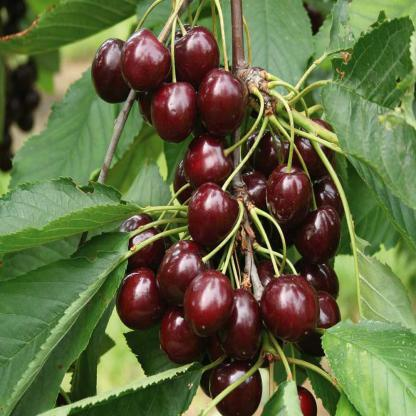Cherry leaf: (0, 228, 131, 409), (0, 162, 139, 258)
